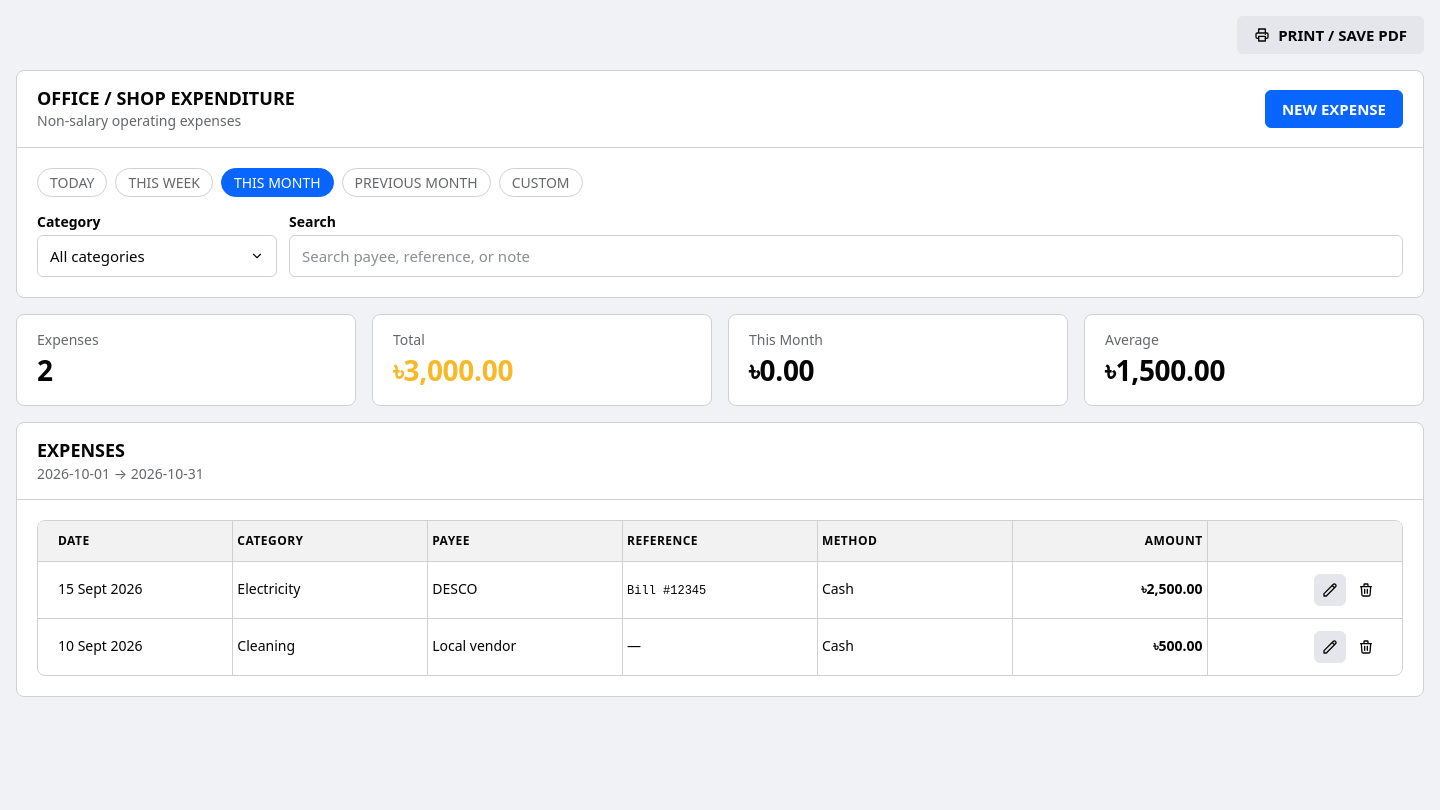
Test: ExpenditurePage › opens the edit modal with prefilled values
Expected: the text "DESCO" is shown, [428,561,622,618]
Click the button named "edit" in the row of "15 Sept 2026" at (1330, 590), box [1314,574,1346,606]
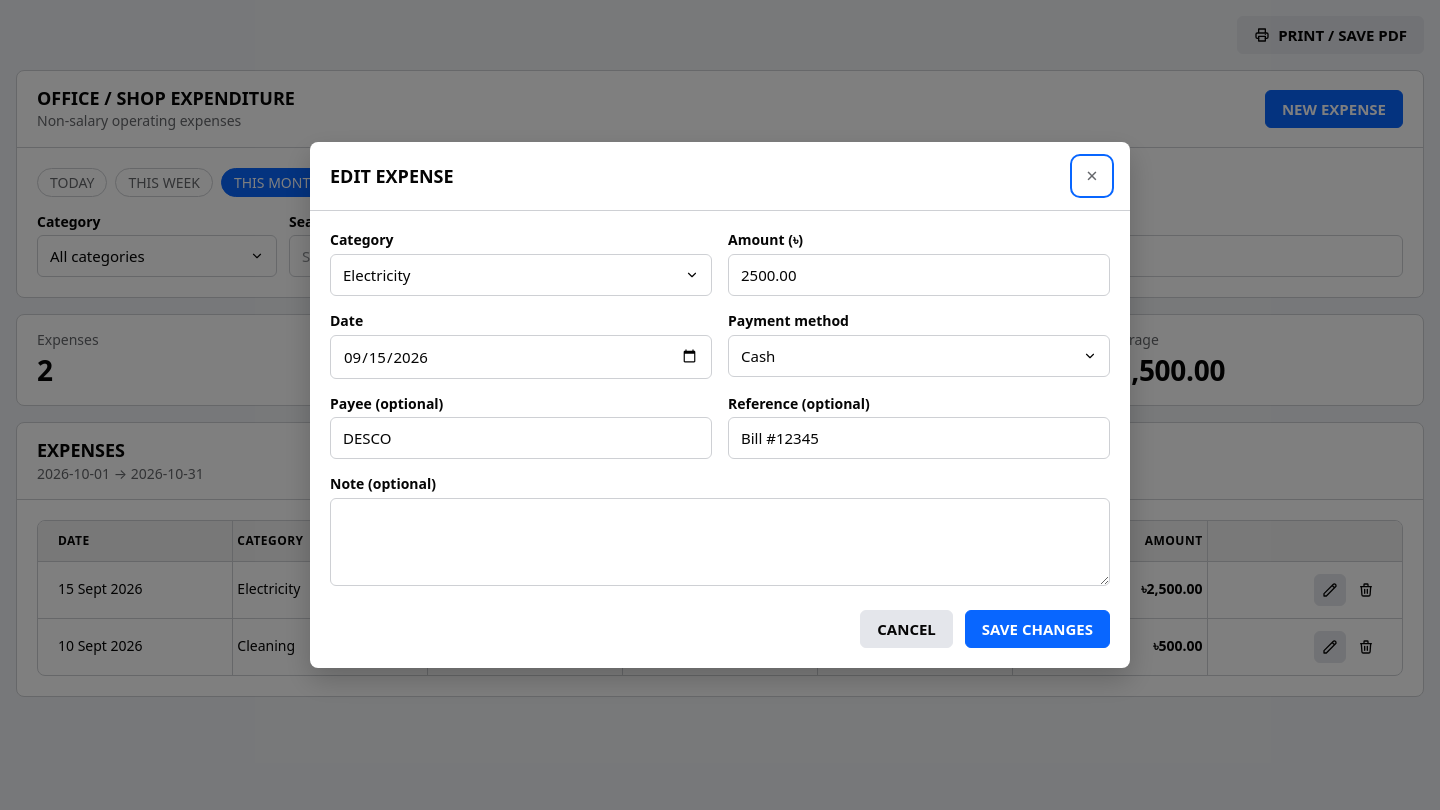
Now the field showing "DESCO" is shown, box [330,417,712,459]
Now the field showing "2500.00" is shown, box [728,254,1110,296]
